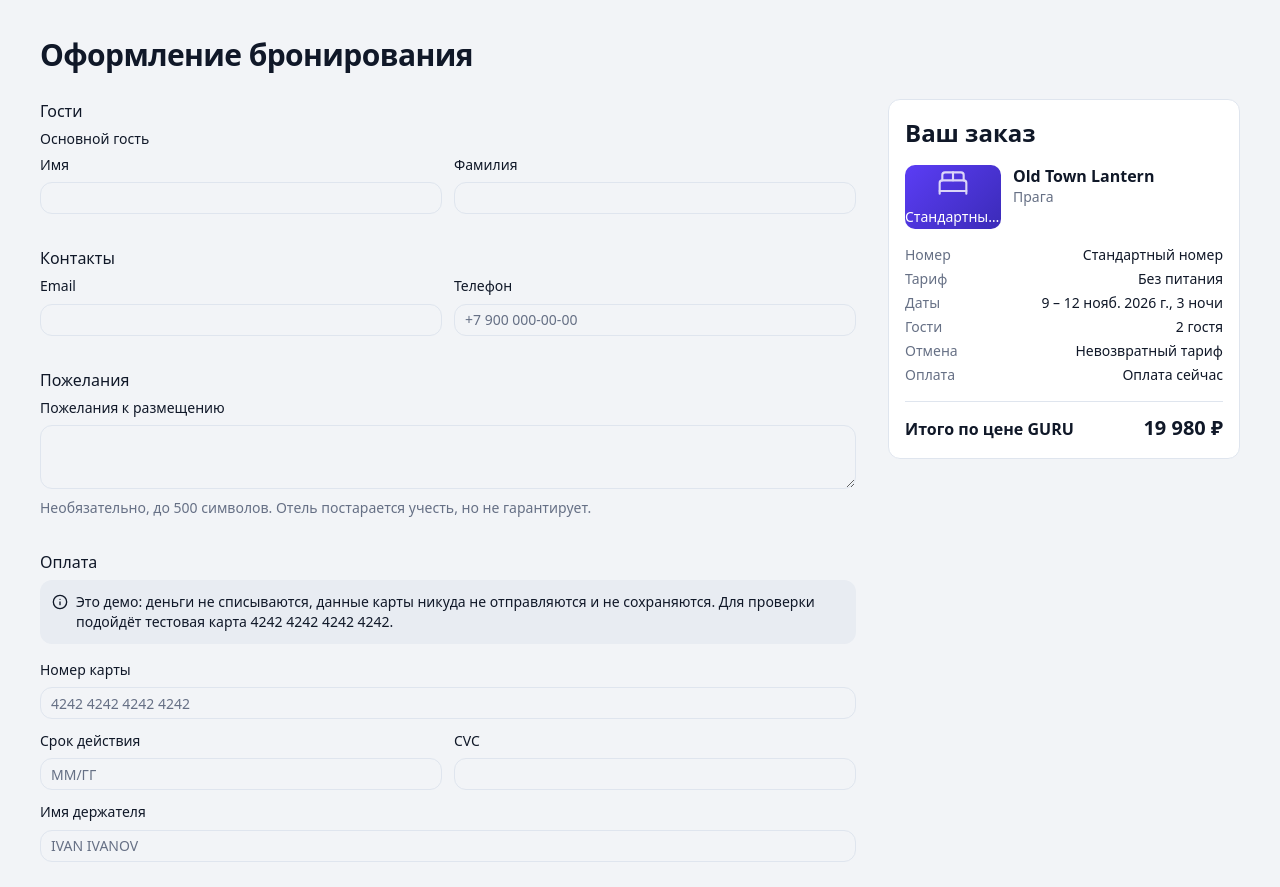
Test: BookingPage payment › rejects a card number that fails Luhn
In the field labelled "Номер карты": {"x": 448, "y": 703} [40, 687, 856, 719], type "4242424242424241"
(page scrolled)
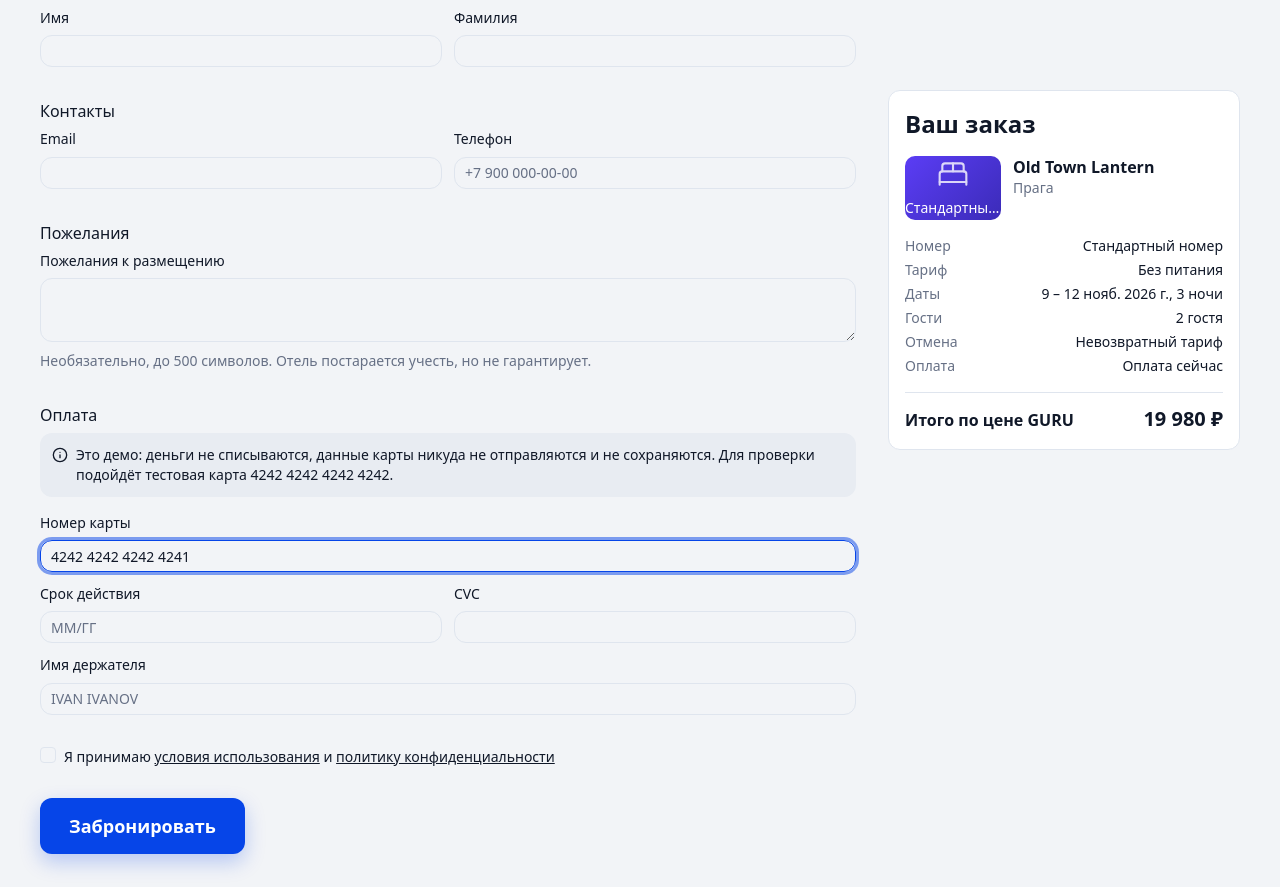
Click the button "Забронировать": {"x": 142, "y": 826} [40, 798, 245, 854]
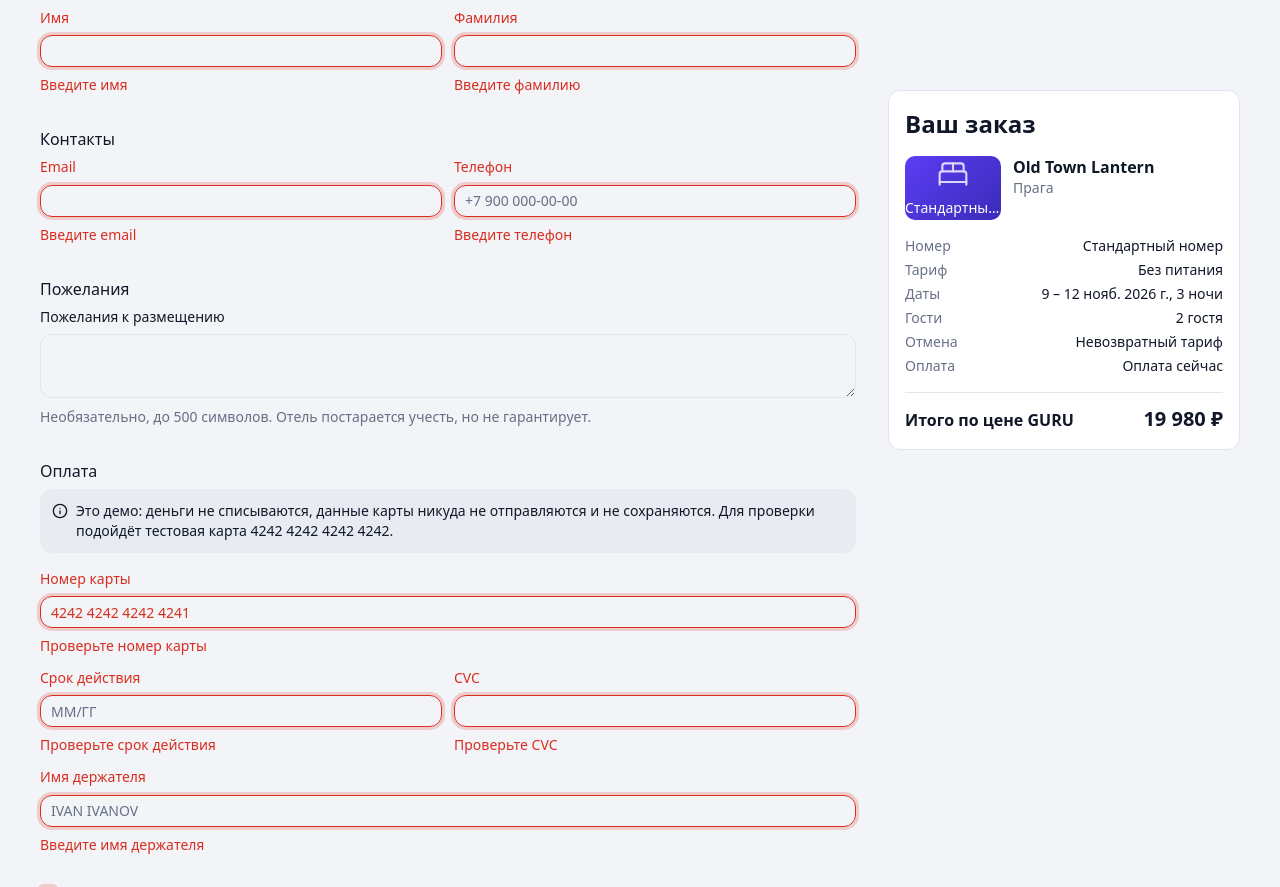
Now the text "Проверьте номер карты" is shown, box [40, 636, 207, 655]
